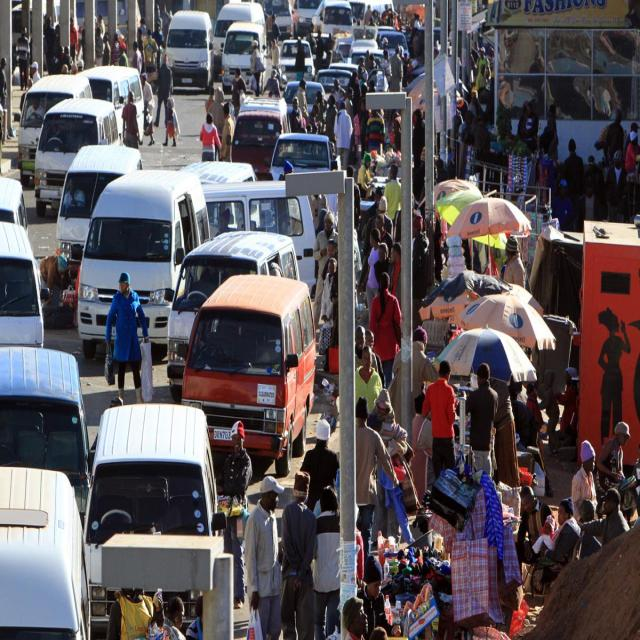MiniBus taxi: (182, 286, 296, 480), (166, 7, 213, 93)
Pedestrians: (240, 473, 291, 637), (102, 270, 160, 406), (281, 471, 317, 640), (162, 96, 181, 150)
